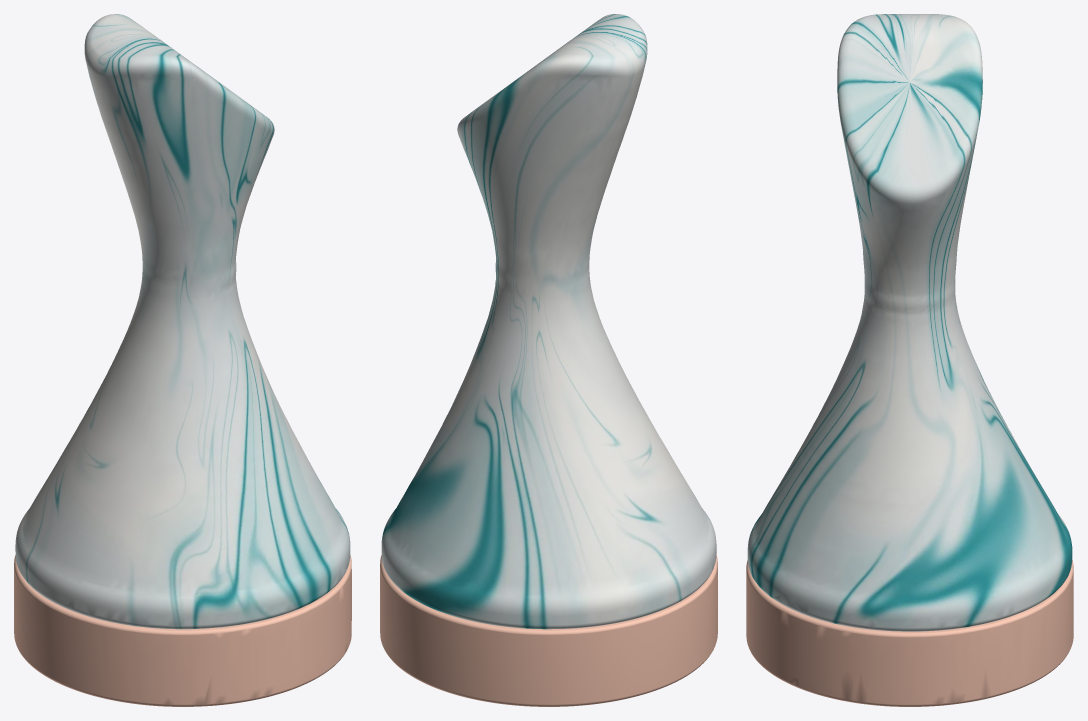
File: knight-white-hd.glb
The picture shows the model from 3 angles, left to right: view 1: azimuth 30°, elevation 25°; view 2: azimuth 150°, elevation 25°; view 3: azimuth 270°, elevation 25°; orthographic projection. The views are drawn at different scales.
Parts seen in each view (by area): view 1: jezdec_bila; view 2: jezdec_bila; view 3: jezdec_bila.
Part boxes in pixels (box(x1,y1,x2,y2)): jezdec_bila: box(14, 14, 351, 706); jezdec_bila: box(380, 14, 717, 706); jezdec_bila: box(746, 14, 1073, 706).
Bounding box in the file's own units: 0.6741 × 1.35 × 0.6741.
Materials: 2 (1 with a texture image).
